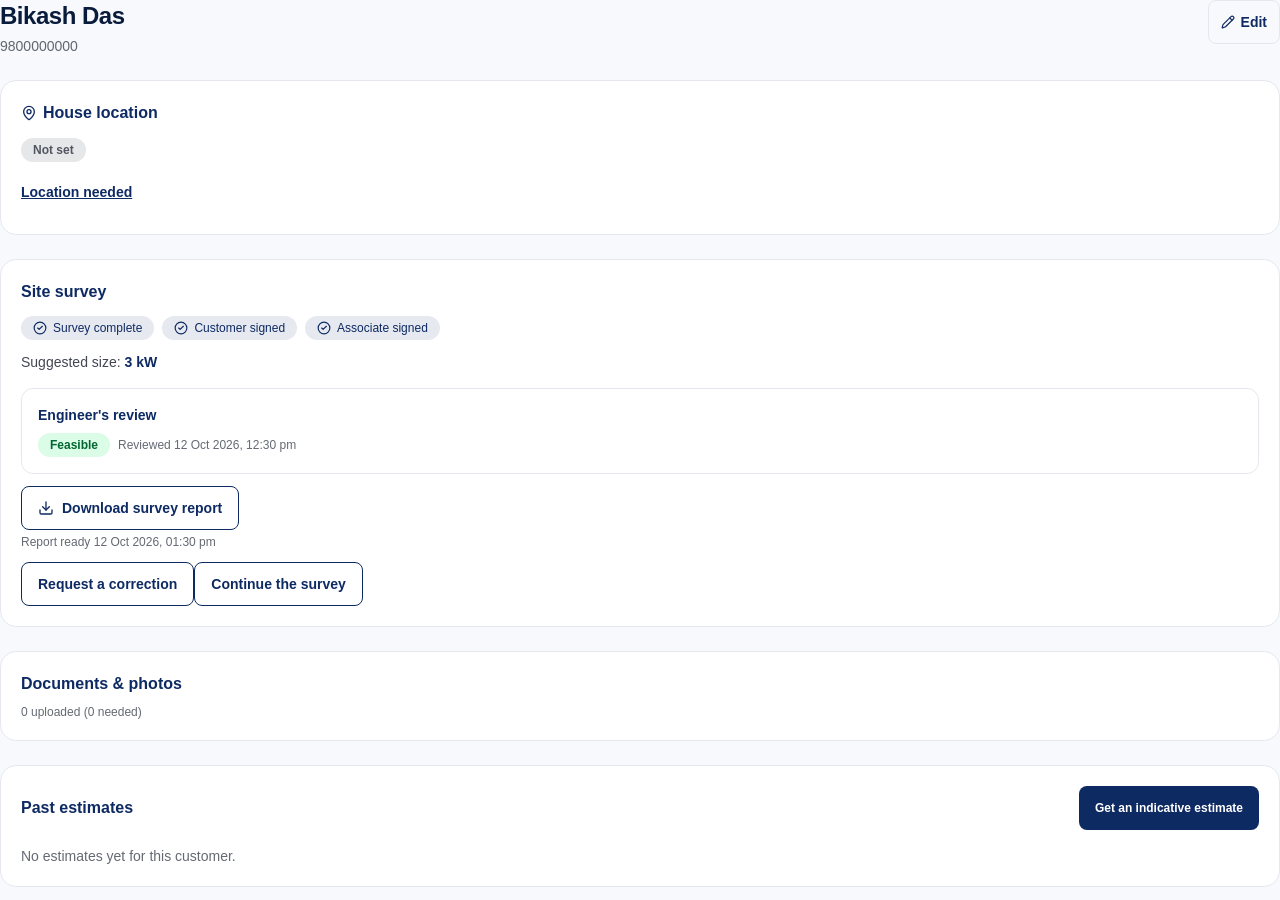
Test case: Report download (owner only) › translates 503 storage_not_configured to plain text
This screenshot has width=1280, height=900.
Click the button "Download survey report". click: (130, 508)
box: [21,486,239,530]
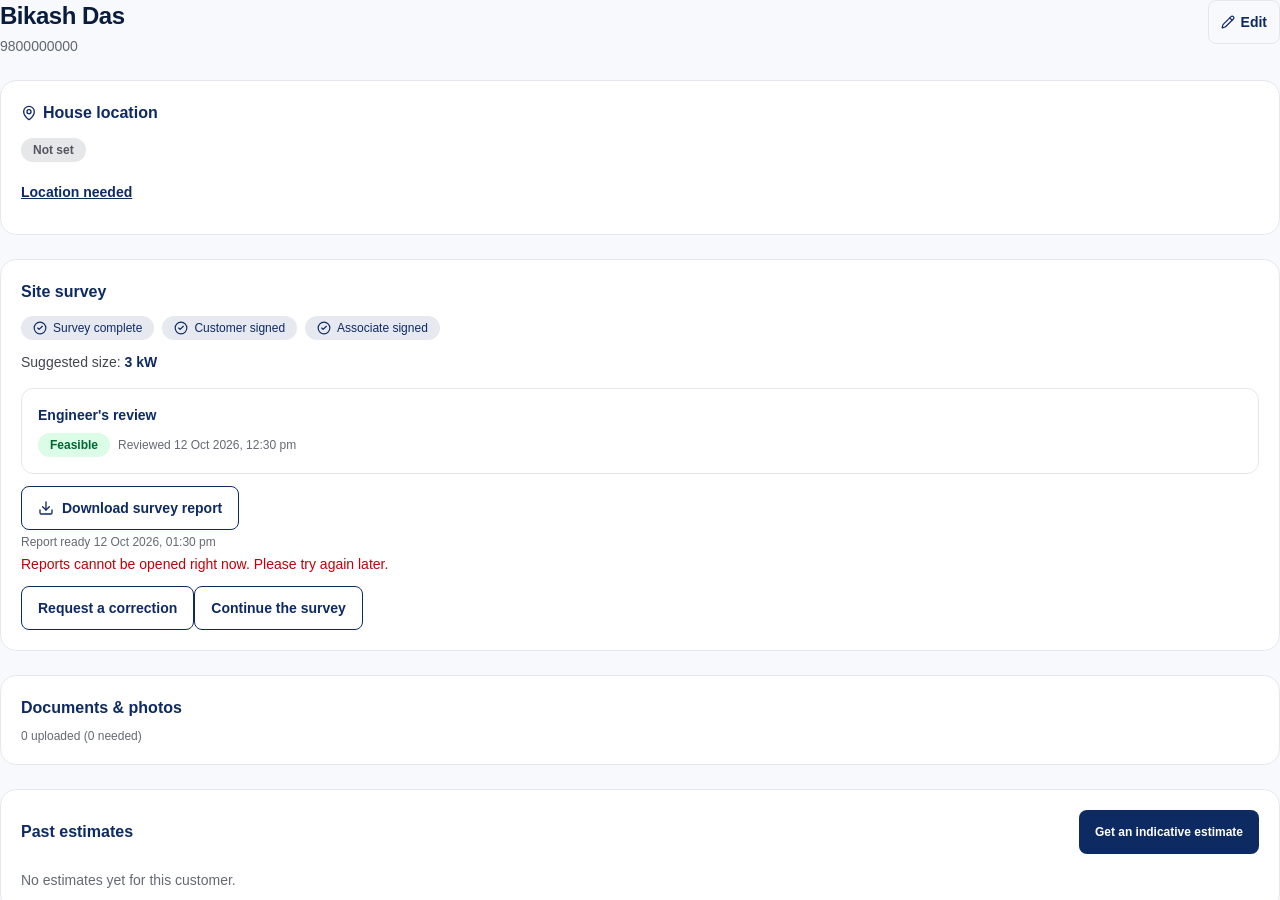
Now the message reads "Reports cannot be opened right now. Please try again later.", box [21,556,388,572]
